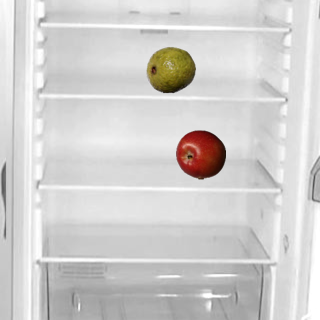Apple Braeburn: (175, 129, 225, 179)
Guava: (145, 44, 195, 94)
